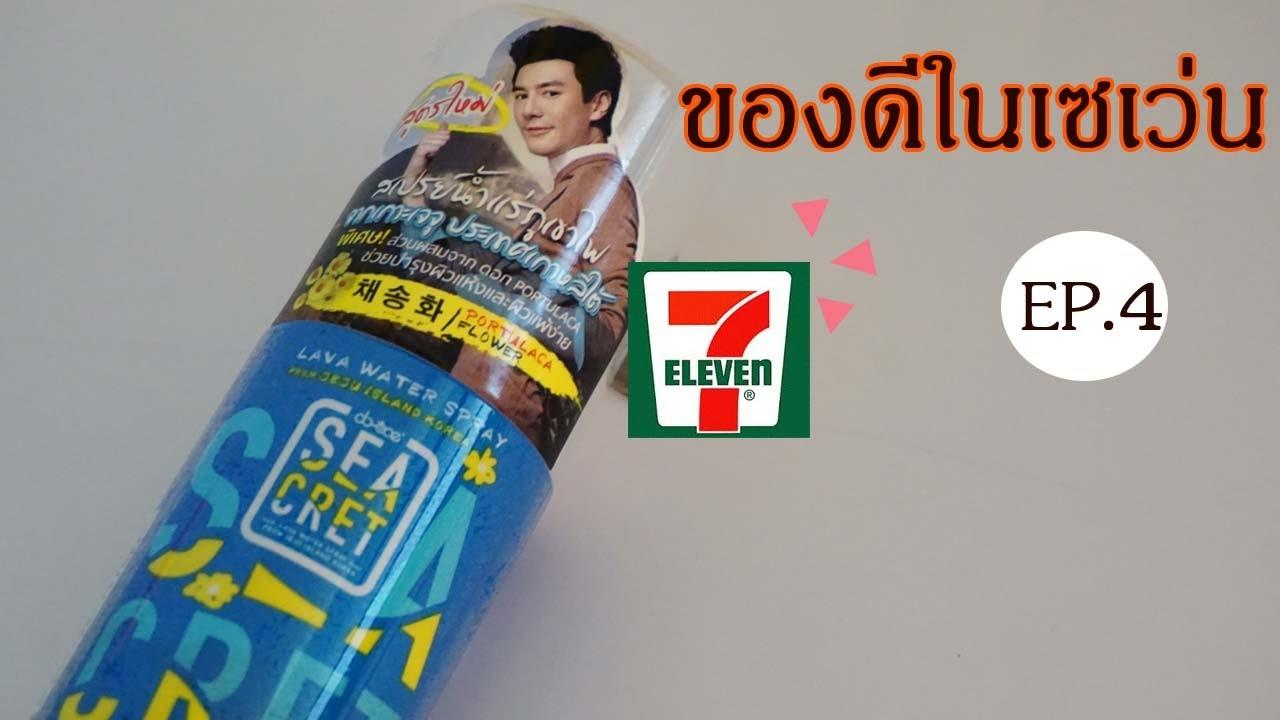bottle: (17, 0, 702, 720)
